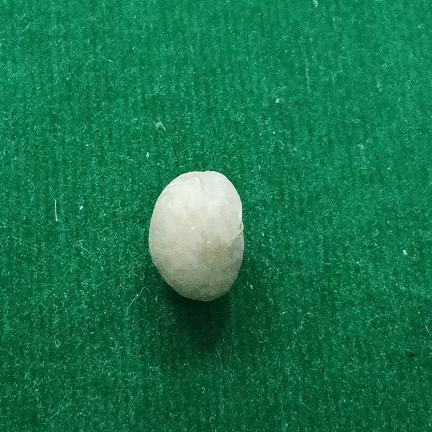good: (148, 171, 244, 301)
